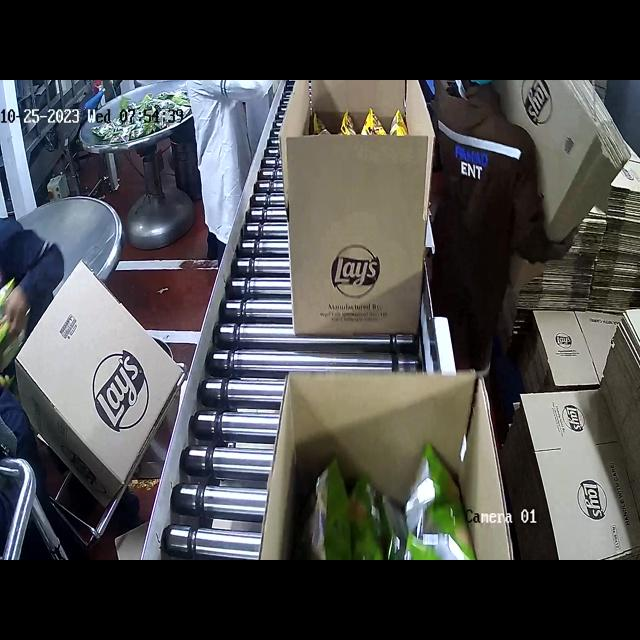salted: (305, 93, 411, 141)
yogurt: (304, 462, 462, 560)
